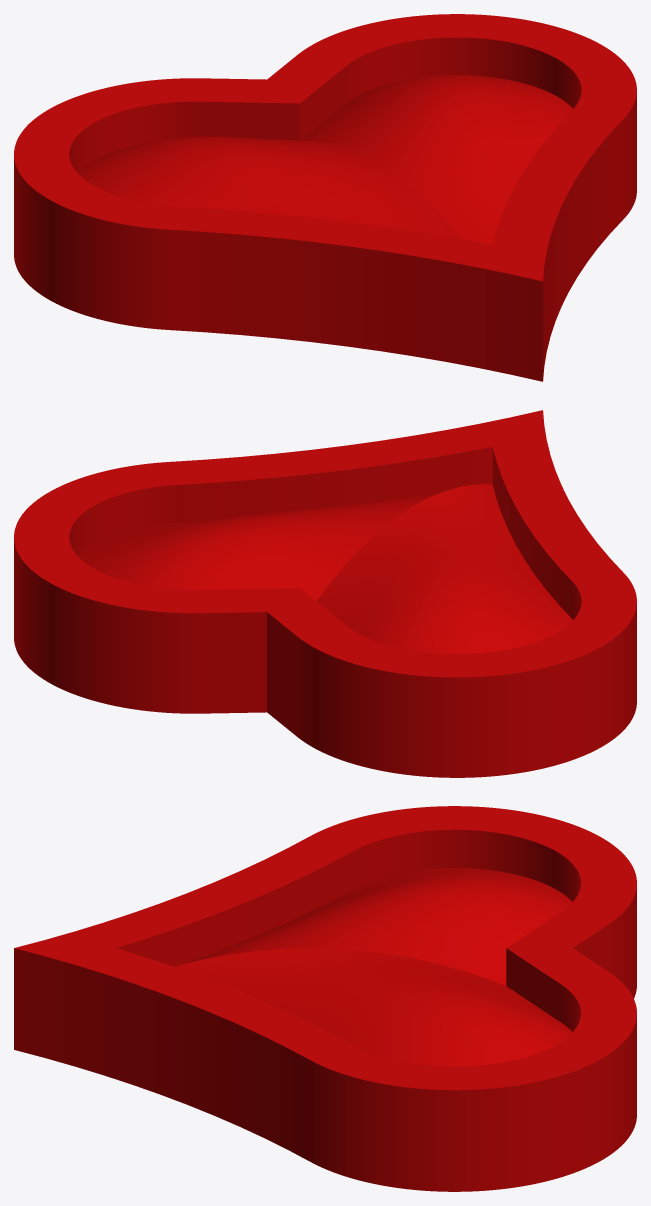
Rendered from heart_token.glb.
The picture shows the model from 3 angles, top to bottom: view 1: azimuth 30°, elevation 25°; view 2: azimuth 150°, elevation 25°; view 3: azimuth 270°, elevation 25°; orthographic projection.
Visible parts, largest first — view 1: =>[0:1:1:2]; view 2: =>[0:1:1:2]; view 3: =>[0:1:1:2].
Part boxes in pixels (<box>): =>[0:1:1:2]: <box>14,14,636,381</box>; =>[0:1:1:2]: <box>14,410,636,777</box>; =>[0:1:1:2]: <box>14,806,636,1191</box>.
Bounding box in the file's own units: 0.024 × 0.00425 × 0.0222.
